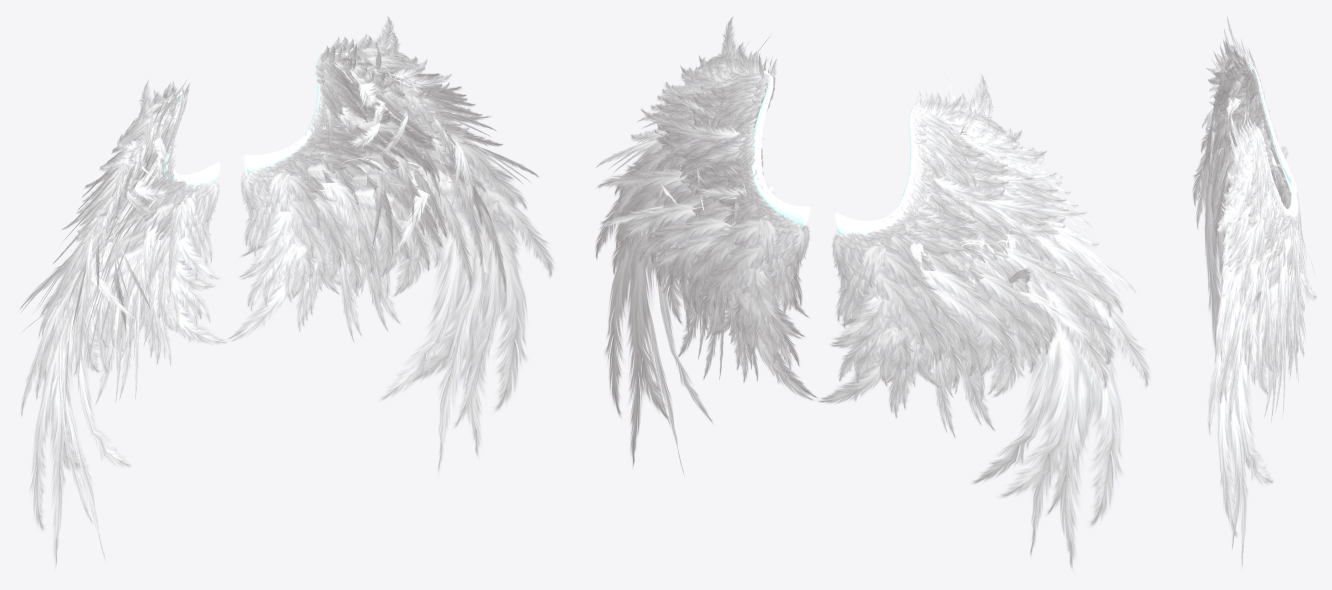
File: featherwings1.glb
The picture shows the model from 3 angles, left to right: view 1: azimuth 30°, elevation 25°; view 2: azimuth 150°, elevation 25°; view 3: azimuth 270°, elevation 25°; orthographic projection. The views are drawn at different scales.
Parts seen in each view (by area): view 1: polySurface2197_Feather_0, polySurface2631_Feather_0, polySurface2197_Wing_0, polySurface2631_Wing_0; view 2: polySurface2631_Feather_0, polySurface2197_Feather_0, polySurface2197_Wing_0, polySurface2631_Wing_0; view 3: polySurface2197_Feather_0, polySurface2631_Feather_0, polySurface2631_Wing_0, polySurface2197_Wing_0.
Part boxes in pixels (x1,y1,x2,y2): polySurface2197_Feather_0: (228,17,554,473); polySurface2631_Feather_0: (19,80,227,567); polySurface2197_Wing_0: (243,53,348,173); polySurface2631_Wing_0: (164,91,220,187); polySurface2631_Feather_0: (818,74,1150,569); polySurface2197_Feather_0: (595,17,817,473); polySurface2197_Wing_0: (751,68,810,226); polySurface2631_Wing_0: (835,108,921,235); polySurface2197_Feather_0: (1207,110,1316,567); polySurface2631_Feather_0: (1192,16,1314,348); polySurface2631_Wing_0: (1244,60,1297,195); polySurface2197_Wing_0: (1251,128,1298,219).
Bounding box in the file's own units: 0.1227 × 0.1014 × 0.0284.
Materials: 2 (2 with a texture image).
